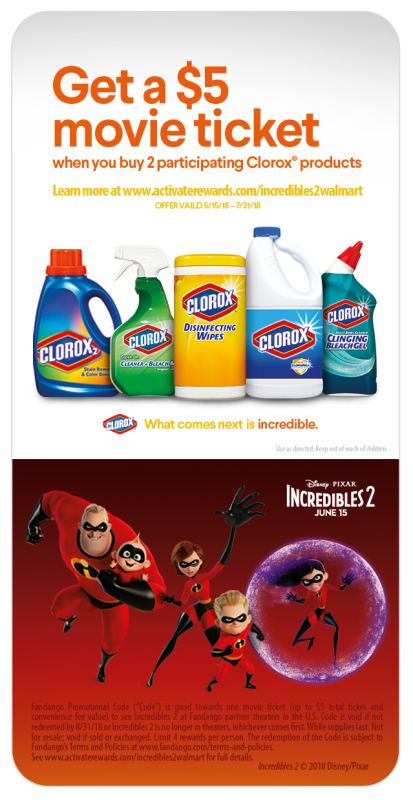Wipes: (169, 249, 251, 405)
